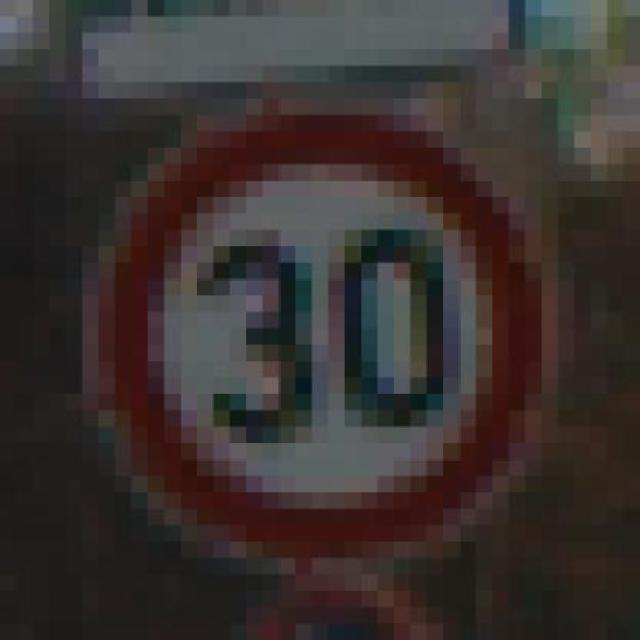Speed Limit 30 KMPh: (49, 82, 608, 575)
